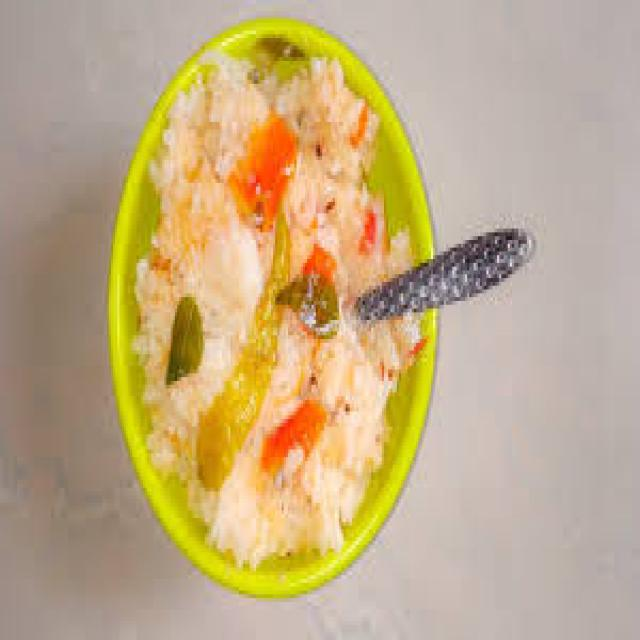UPMA: (132, 46, 433, 560)
